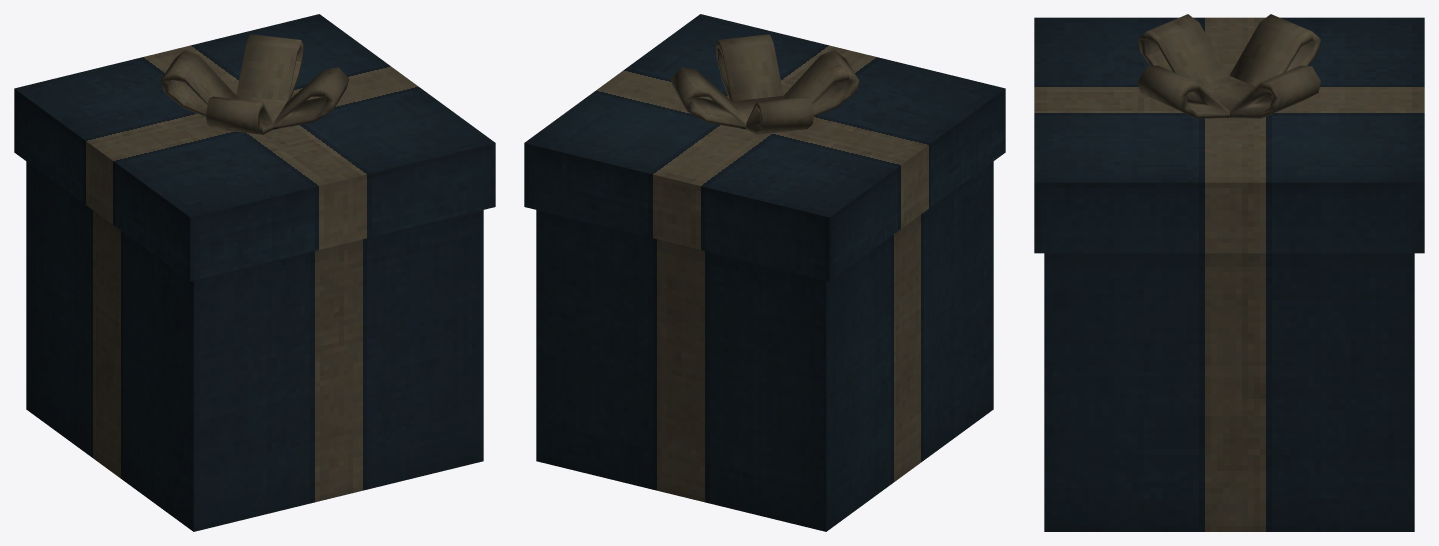
Rendered from gift_box_mx_1_2.glb.
The picture shows the model from 3 angles, left to right: view 1: azimuth 30°, elevation 25°; view 2: azimuth 150°, elevation 25°; view 3: azimuth 270°, elevation 25°; orthographic projection. The views are drawn at different scales.
Parts seen in each view (by area): view 1: gift_box_mx_1_2; view 2: gift_box_mx_1_2; view 3: gift_box_mx_1_2.
Part boxes in pixels (left/top/right/bottom): gift_box_mx_1_2: left=14, top=14, right=495, bottom=531; gift_box_mx_1_2: left=524, top=14, right=1005, bottom=531; gift_box_mx_1_2: left=1034, top=14, right=1424, bottom=531.
Bounding box in the file's own units: 0.2 × 0.229 × 0.2.
1 material, 1 textured.
